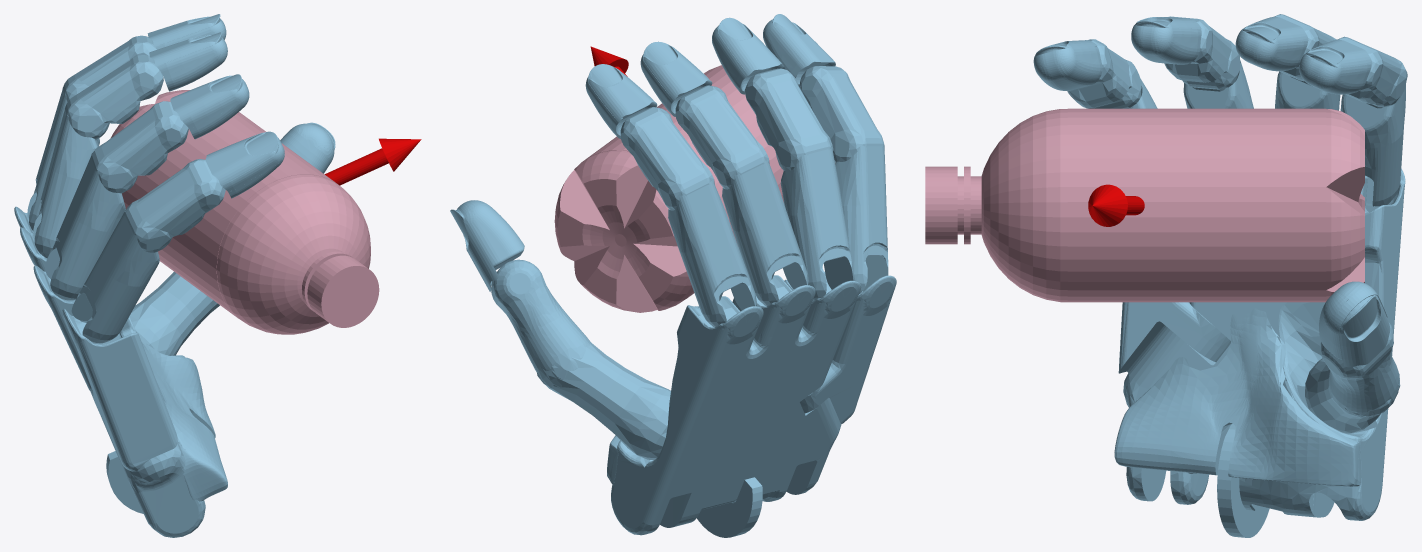
3 renders of one model, left to right at view 1: azimuth 30°, elevation 25°; view 2: azimuth 150°, elevation 25°; view 3: azimuth 270°, elevation 25°, orthographic. The views are drawn at different scales.
Parts seen in each view (by area): view 1: world, water_bottle.stl; view 2: world, water_bottle.stl; view 3: world, water_bottle.stl.
Boxes of the visible parts, x1,y1,x2,y2 form: world: (14, 14, 421, 537); water_bottle.stl: (110, 90, 379, 334); world: (450, 14, 896, 537); water_bottle.stl: (554, 65, 783, 312); world: (1033, 14, 1407, 537); water_bottle.stl: (925, 108, 1364, 302).
Size of the model in its own units: 0.1444 by 0.1839 by 0.1498.
